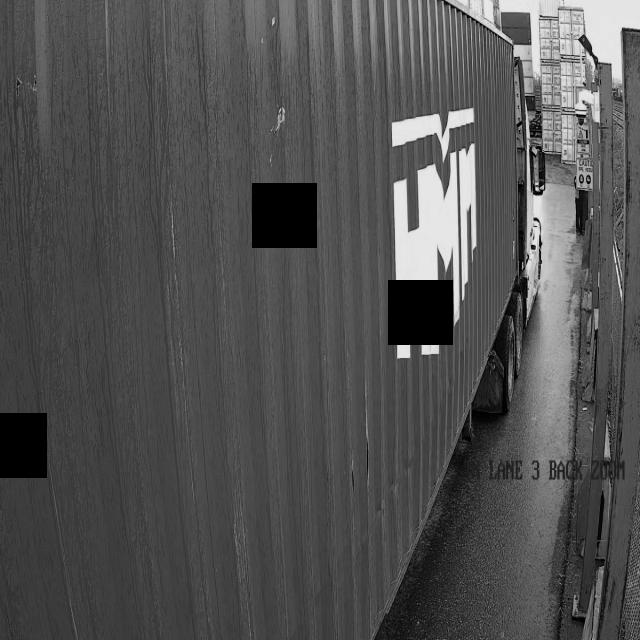container_company_logo: (355, 80, 530, 378)
truck_with_container: (0, 0, 532, 640)
